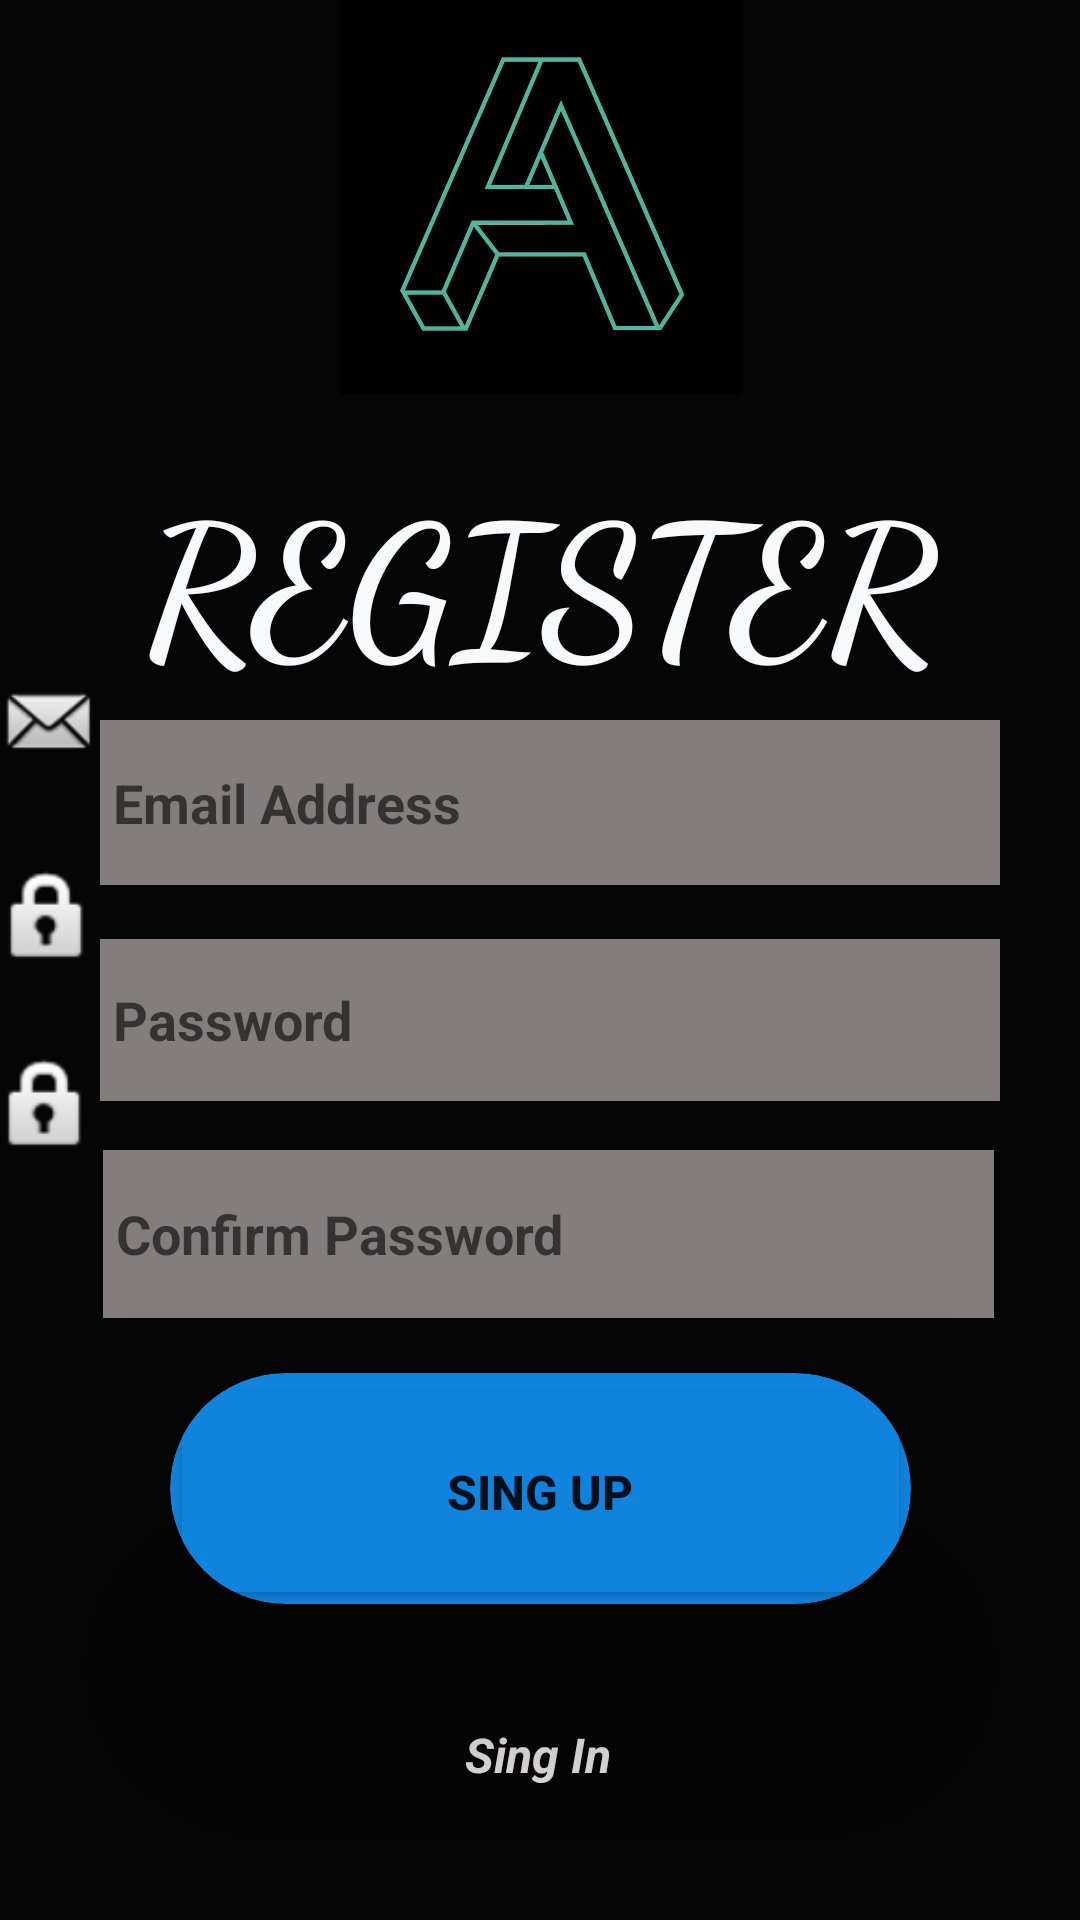

Screen size 1080 × 1920. Icon name, then its box in pixels as (x1, y1, x2, y2):
sym action email: (7, 693, 90, 749)
